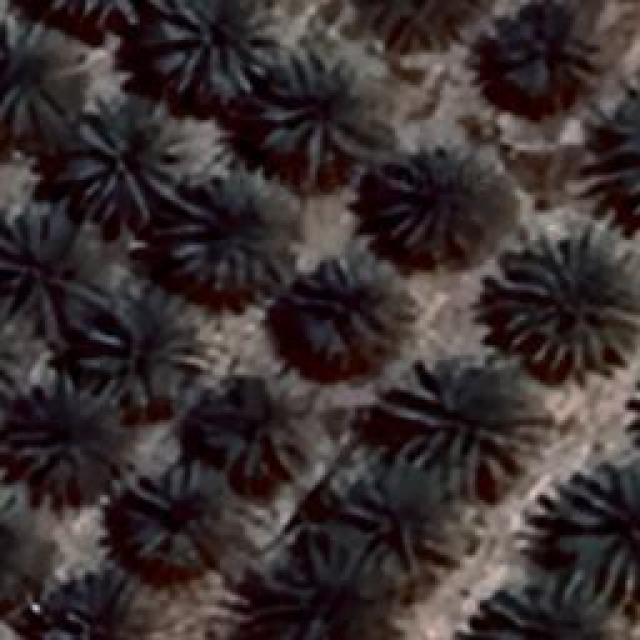PalmTree: (39, 26, 420, 93), (382, 355, 542, 500), (488, 228, 638, 380), (160, 170, 300, 292), (62, 92, 190, 218), (80, 285, 208, 410), (292, 242, 418, 362), (372, 145, 490, 260), (255, 55, 383, 160), (552, 457, 638, 605), (147, 0, 275, 95), (8, 402, 128, 496), (1, 214, 99, 324), (212, 375, 312, 480), (485, 12, 593, 108), (125, 465, 225, 565), (337, 480, 435, 575), (250, 567, 375, 640), (34, 582, 164, 640), (474, 592, 598, 640), (595, 98, 640, 220), (0, 491, 33, 606), (33, 0, 173, 26), (0, 298, 30, 411), (624, 352, 640, 468), (628, 354, 640, 466)
